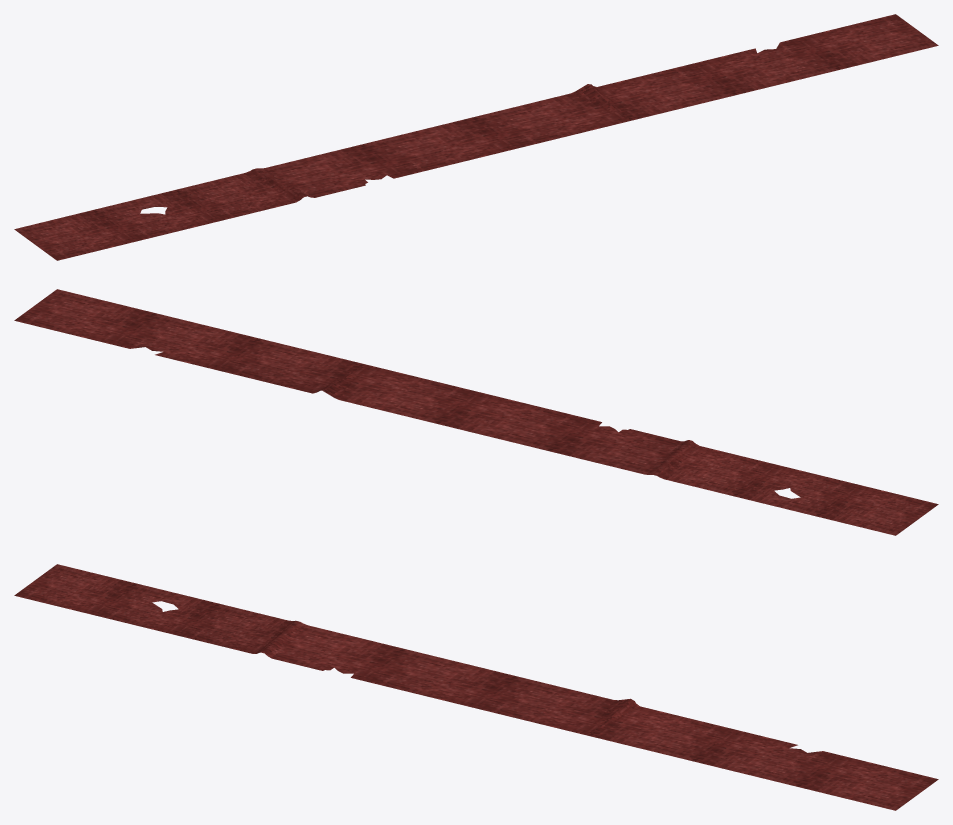
The model's file is Carpet.fbx.
3 renders of one model, top to bottom at view 1: azimuth 30°, elevation 25°; view 2: azimuth 150°, elevation 25°; view 3: azimuth 330°, elevation 25°, orthographic.
Parts seen in each view (by area): view 1: Plane; view 2: Plane; view 3: Plane.
Part boxes in pixels (x1,y1,x2,y2): Plane: (14, 14, 938, 260); Plane: (14, 289, 938, 535); Plane: (14, 564, 938, 810).
Bounding box in the file's own units: 3504 × 20.24 × 297.
1 material, 1 textured.
